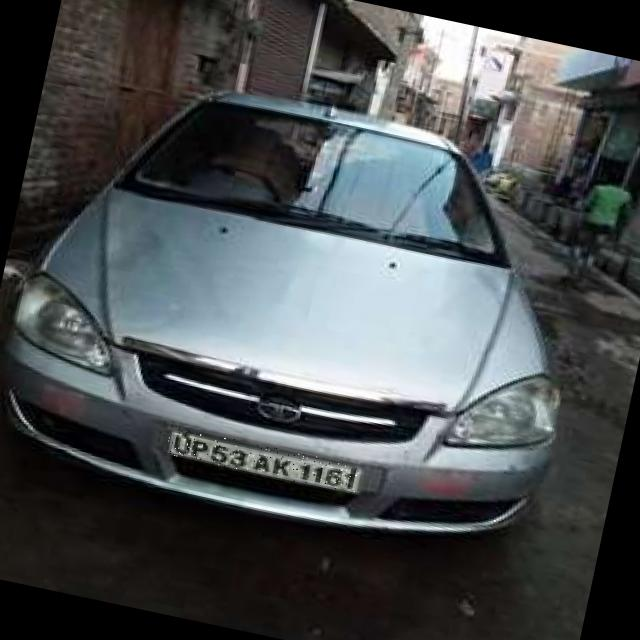Plate: (163, 426, 361, 495)
